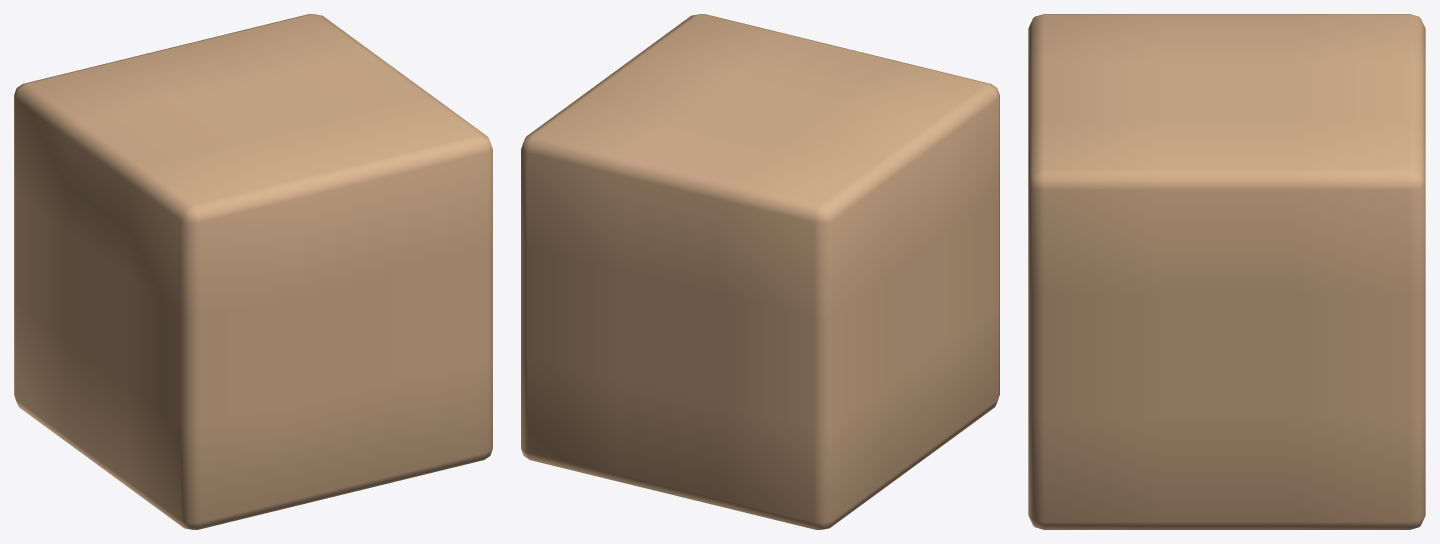
The model's file is voxel_wood.glb.
3 renders of one model, left to right at view 1: azimuth 30°, elevation 25°; view 2: azimuth 150°, elevation 25°; view 3: azimuth 270°, elevation 25°, orthographic. The views are drawn at different scales.
Visible parts, largest first — view 1: Voxel_Wood; view 2: Voxel_Wood; view 3: Voxel_Wood.
Boxes of the visible parts, x1,y1,x2,y2 form: Voxel_Wood: (14,14,492,529); Voxel_Wood: (521,14,999,529); Voxel_Wood: (1028,14,1425,529).
Size of the model in its own units: 0.96 by 0.96 by 0.96.
